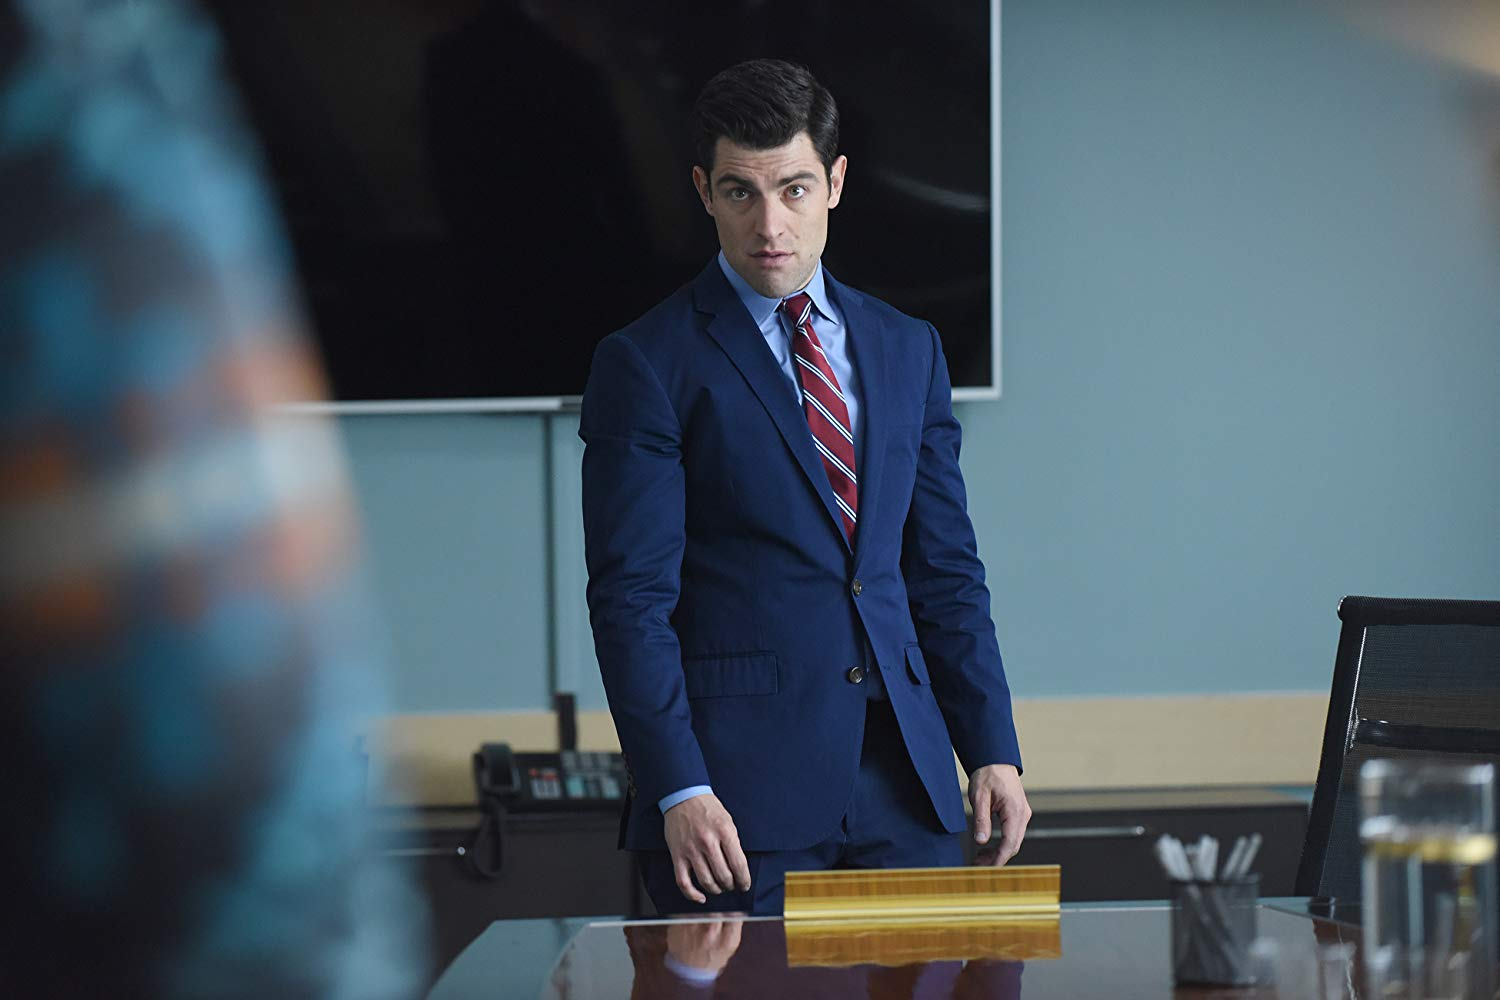person: (574, 54, 1049, 907)
